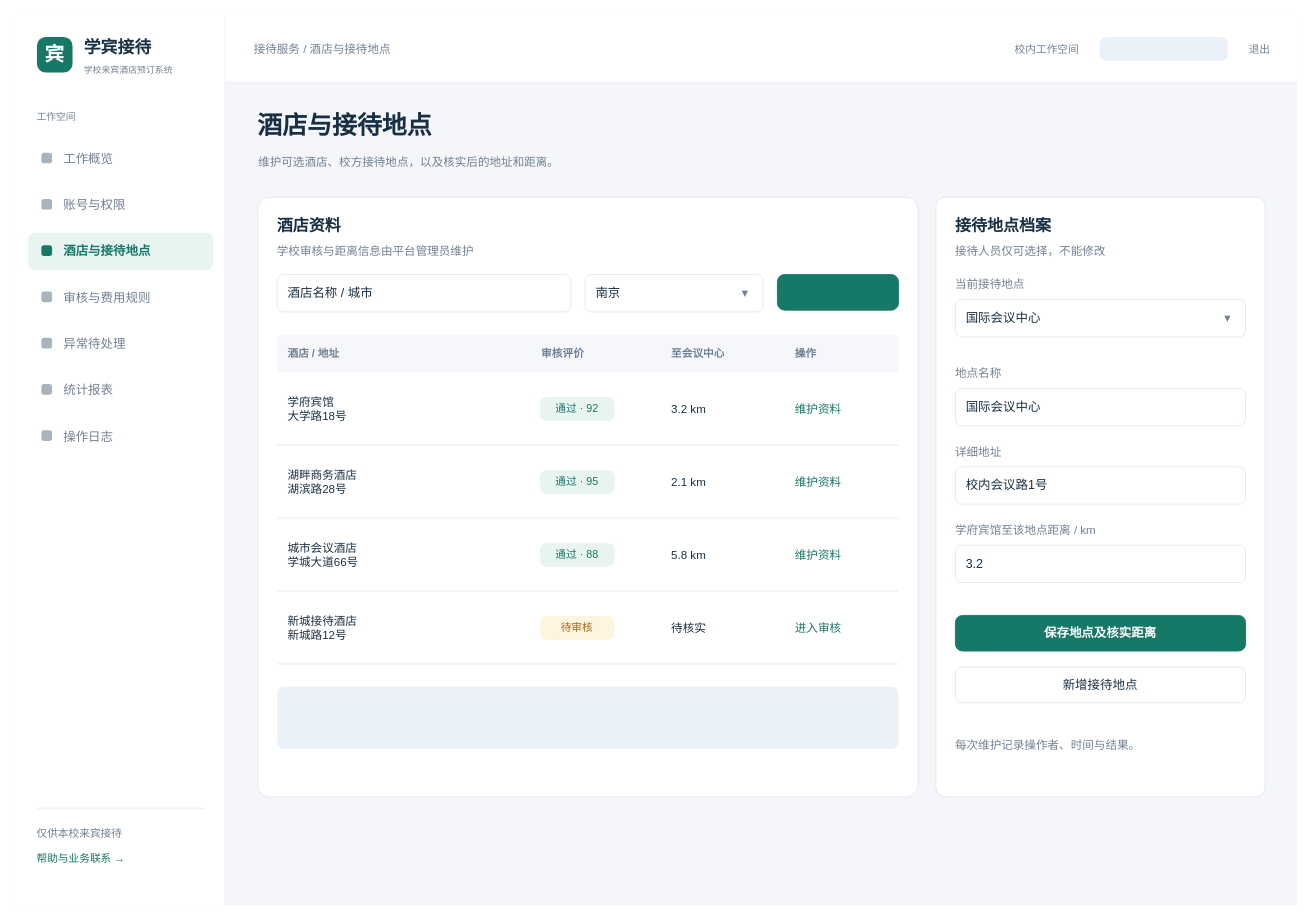
Some shapes in this 1312 by 920 pixel diagram are drawn without their labels. Each missing label, with the box of its shape:
已审核且评价至少70分的酒店，满足其他条件后可推荐和预订。: (277, 686, 898, 748)
平台管理员: (1099, 36, 1227, 61)
新增酒店: (777, 274, 898, 310)
